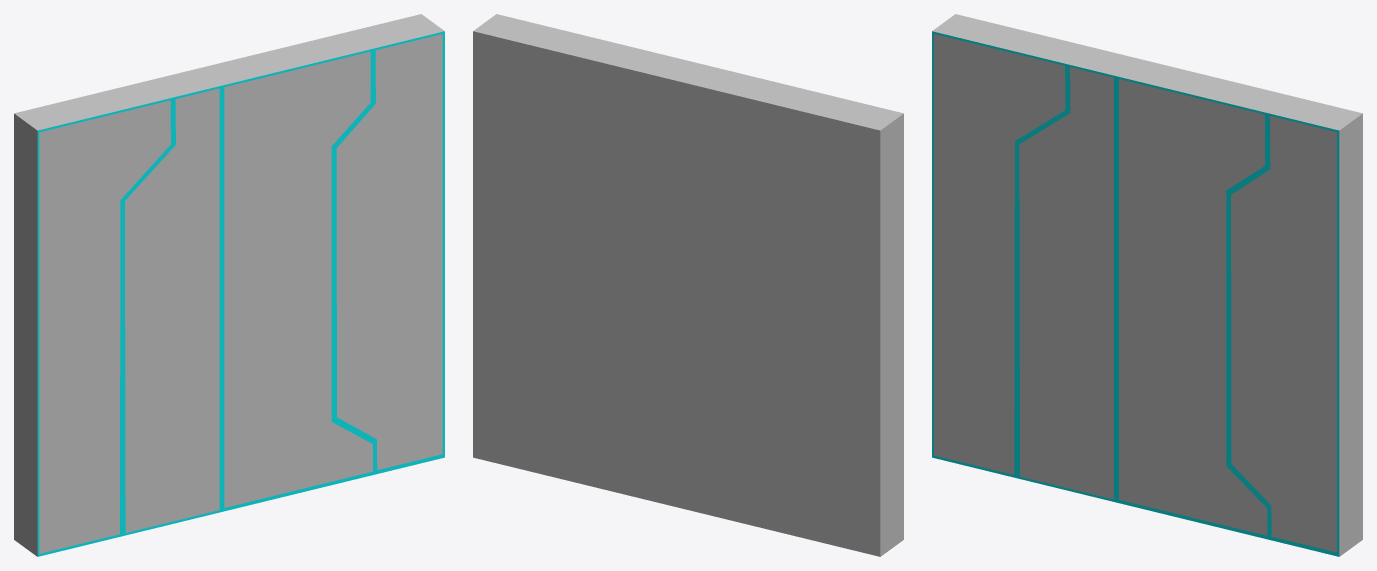
Rendered from Wall_009.fbx.
3 renders of one model, left to right at view 1: azimuth 30°, elevation 25°; view 2: azimuth 150°, elevation 25°; view 3: azimuth 330°, elevation 25°, orthographic.
Parts seen in each view (by area): view 1: Wall_009; view 2: Wall_009; view 3: Wall_009.
Boxes of the visible parts, bbox=[...] form: Wall_009: bbox=[14, 14, 444, 556]; Wall_009: bbox=[473, 14, 903, 556]; Wall_009: bbox=[932, 14, 1362, 556].
Size of the model in its own units: 300 by 300 by 30.
